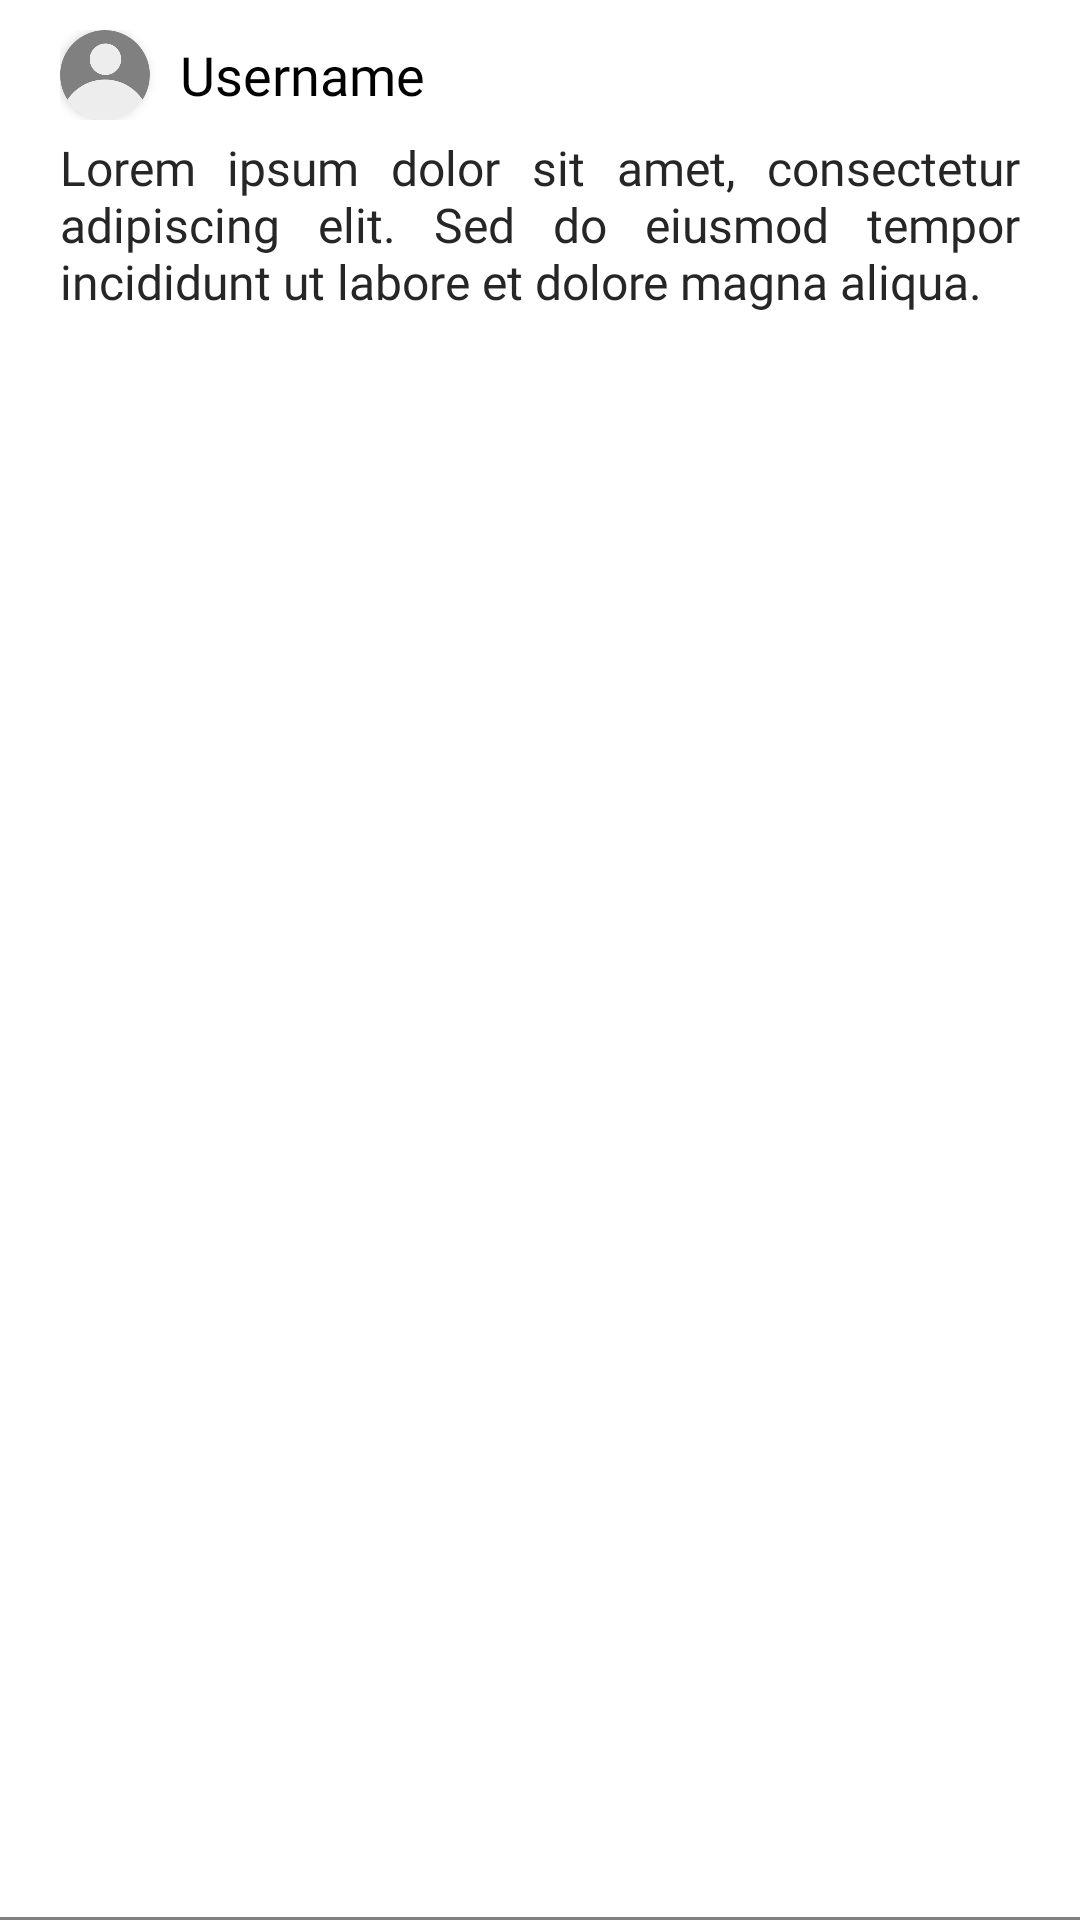

Icons on this 1080 × 1920 Android screen, each with the point to tap as [x,y]:
deafult profile picture: [105,65]
